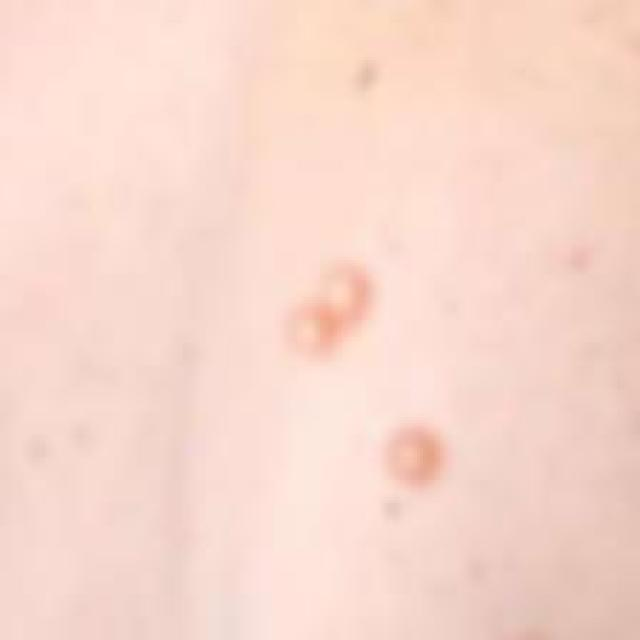monkeypox: (229, 217, 531, 616)
